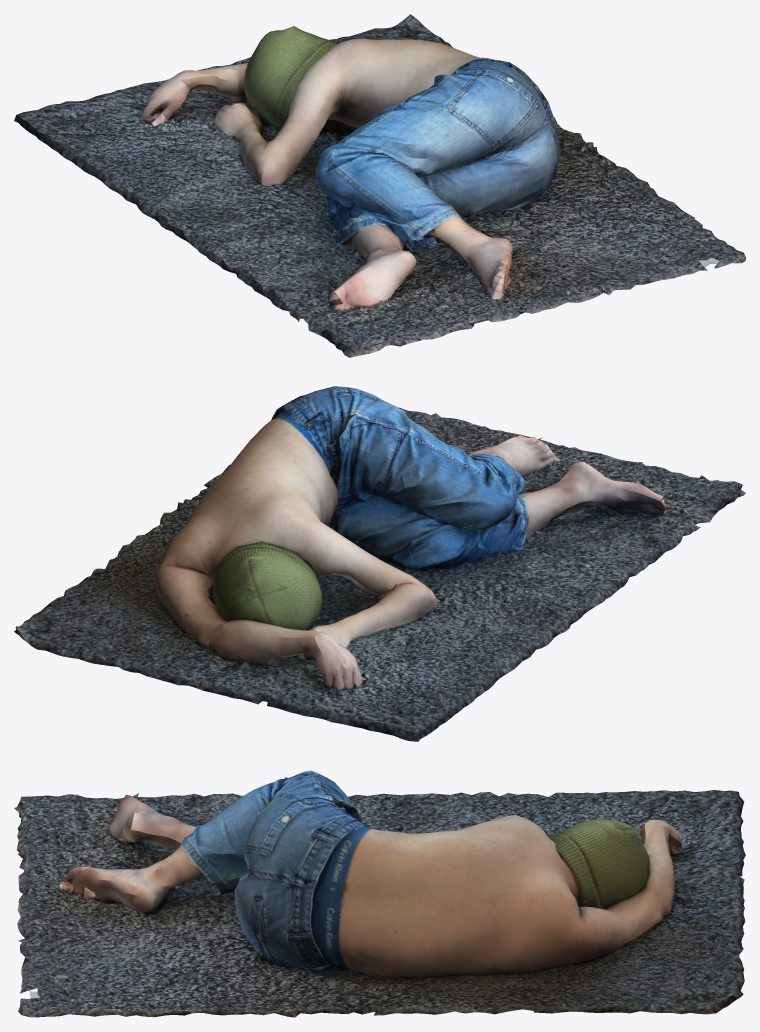
Rendered from lowpoly_photorealism.glb.
3 views of the same model, one above another, from view 1: azimuth 30°, elevation 25°; view 2: azimuth 150°, elevation 25°; view 3: azimuth 270°, elevation 25° (orthographic). The views are drawn at different scales.
Parts seen in each view (by area): view 1: Default_Mat_0; view 2: Default_Mat_0; view 3: Default_Mat_0.
Part boxes in pixels (x1=…): Default_Mat_0: x1=14, y1=14, x2=745, y2=357; Default_Mat_0: x1=14, y1=386, x2=745, y2=741; Default_Mat_0: x1=14, y1=770, x2=745, y2=1017.
Bounding box in the file's own units: 0.0283 × 0.00844 × 0.0396.
1 material, 1 textured.
